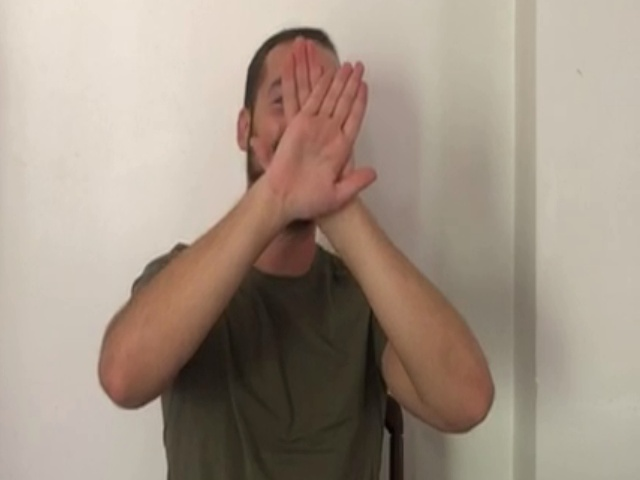Stemneto: (248, 33, 381, 230)
